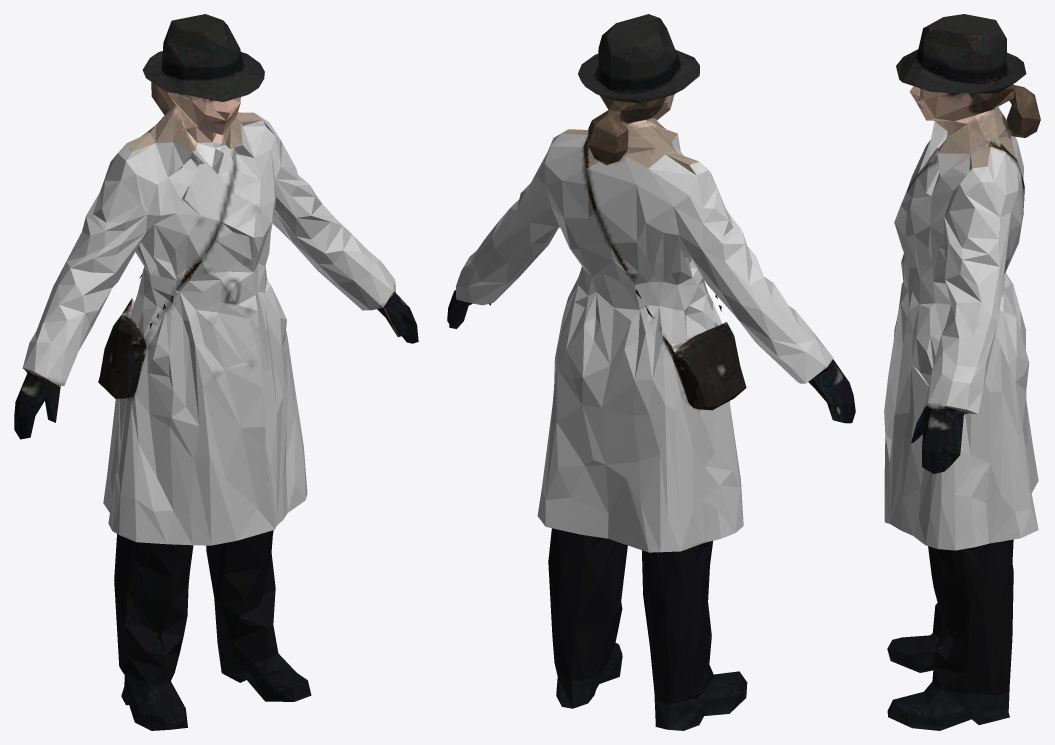
The model's file is realistic-cc0.a27e789144ee.spy.glb.
3 renders of one model, left to right at view 1: azimuth 30°, elevation 25°; view 2: azimuth 150°, elevation 25°; view 3: azimuth 270°, elevation 25°, orthographic.
Visible parts, largest first — view 1: spy; view 2: spy; view 3: spy.
Boxes of the visible parts, bbox=[...] form: spy: bbox=[14, 14, 418, 730]; spy: bbox=[447, 14, 855, 730]; spy: bbox=[884, 14, 1040, 730].
Size of the model in its own units: 1.08 by 1.75 by 0.3711.
Materials: 2 (2 with a texture image).
